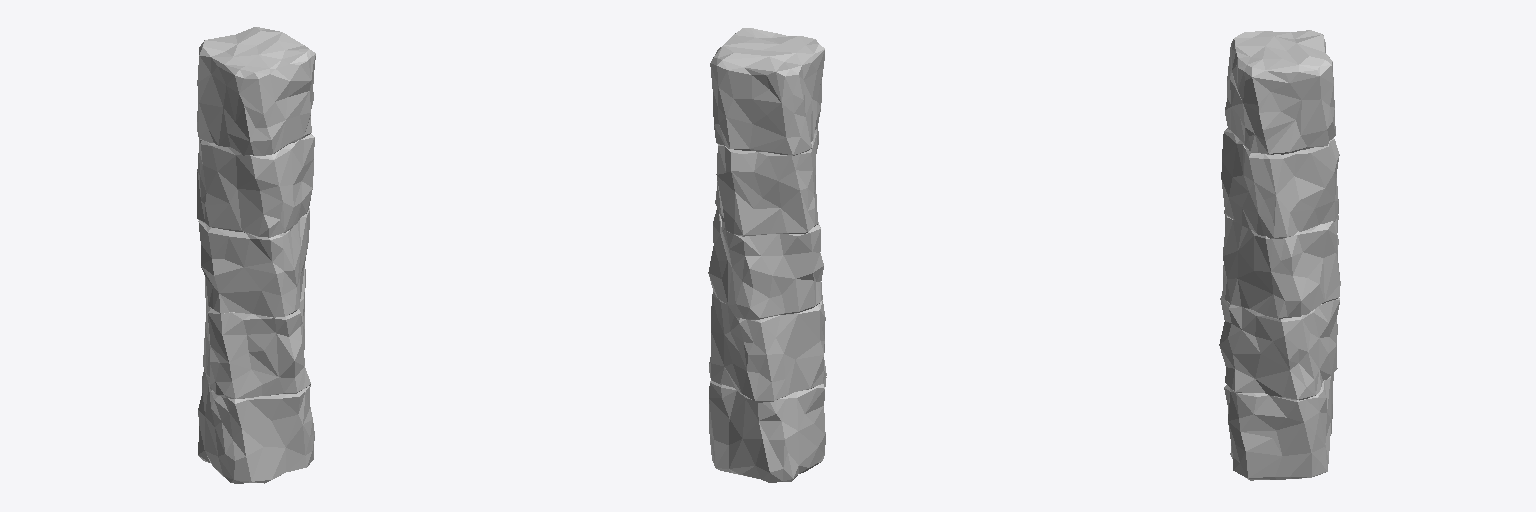
File: scroller.obj
3 renders of one model, left to right at view 1: azimuth 30°, elevation 25°; view 2: azimuth 150°, elevation 25°; view 3: azimuth 270°, elevation 25°, orthographic.
Parts seen in each view (by area): view 1: Cube.004; view 2: Cube.004; view 3: Cube.004.
Boxes of the visible parts, x1,y1,x2,y2 form: Cube.004: [197, 27, 315, 483]; Cube.004: [708, 28, 826, 482]; Cube.004: [1219, 30, 1340, 480].
Size of the model in its own units: 0.5274 by 2.06 by 0.5414.